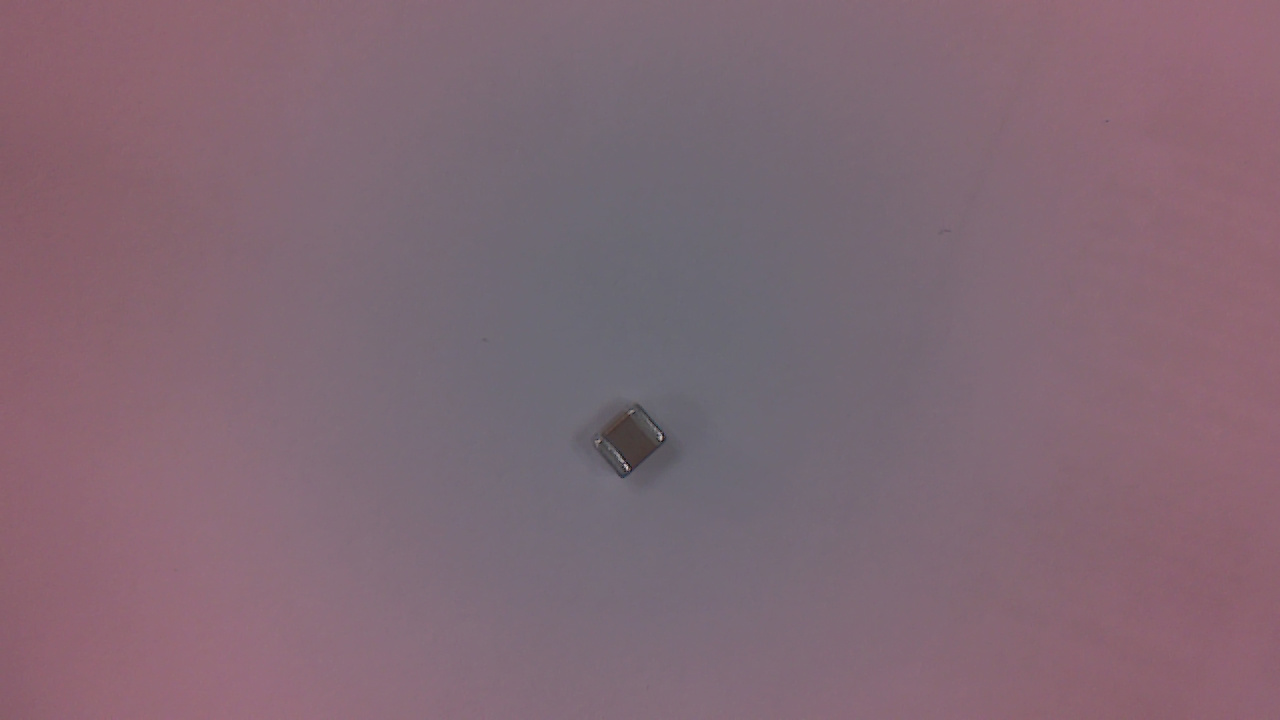Condensator: (593, 408, 674, 487)
